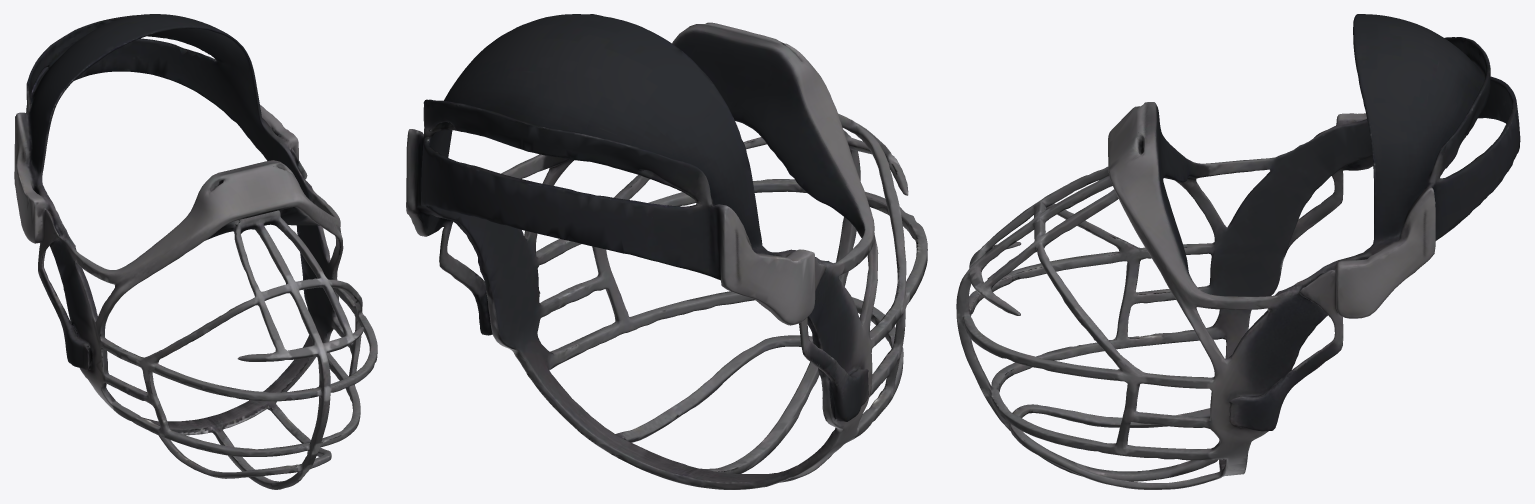
The model's file is vet_equip_muzzle.glb.
3 views of the same model, side by side, from view 1: azimuth 30°, elevation 25°; view 2: azimuth 150°, elevation 25°; view 3: azimuth 270°, elevation 25° (orthographic). The views are drawn at different scales.
Parts seen in each view (by area): view 1: model; view 2: model; view 3: model.
Boxes of the visible parts, bbox=[...] form: model: bbox=[14, 14, 377, 489]; model: bbox=[406, 14, 927, 489]; model: bbox=[956, 14, 1520, 489].
Size of the model in its own units: 1.22 by 1.67 by 1.9.
1 material, 1 textured.
